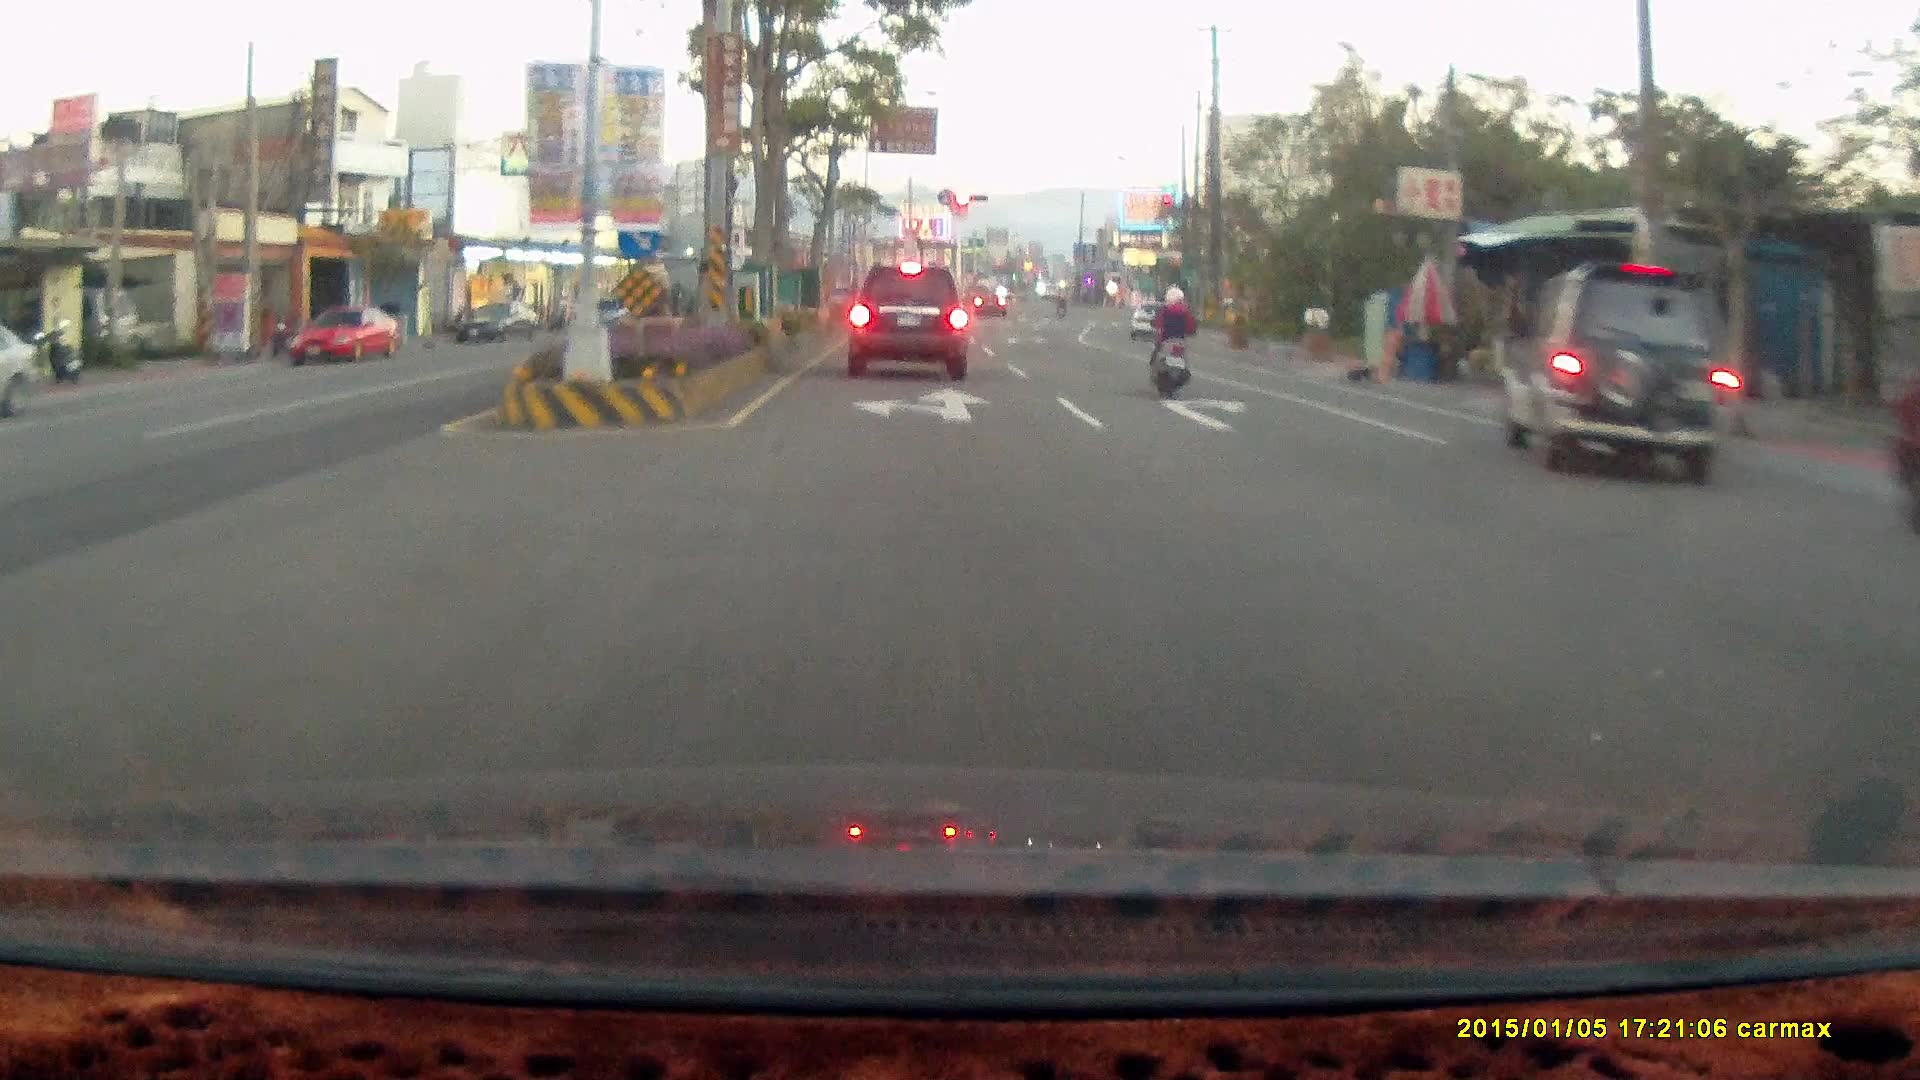rider: (1146, 286, 1195, 398)
vehicle: (1495, 260, 1742, 486), (1502, 264, 1744, 484), (845, 265, 966, 381), (1896, 493, 1920, 836), (287, 303, 405, 369), (285, 305, 402, 367), (1883, 528, 1920, 690), (1884, 377, 1920, 534), (1, 322, 44, 423), (461, 302, 543, 353), (1130, 303, 1185, 342)
